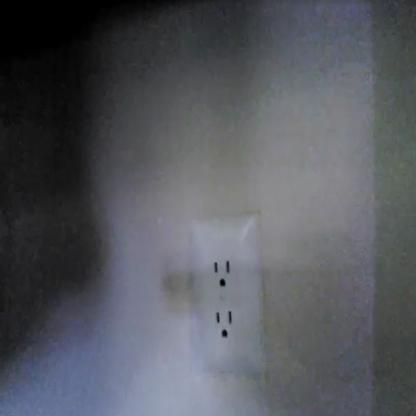OUTLET: (189, 213, 264, 378)
